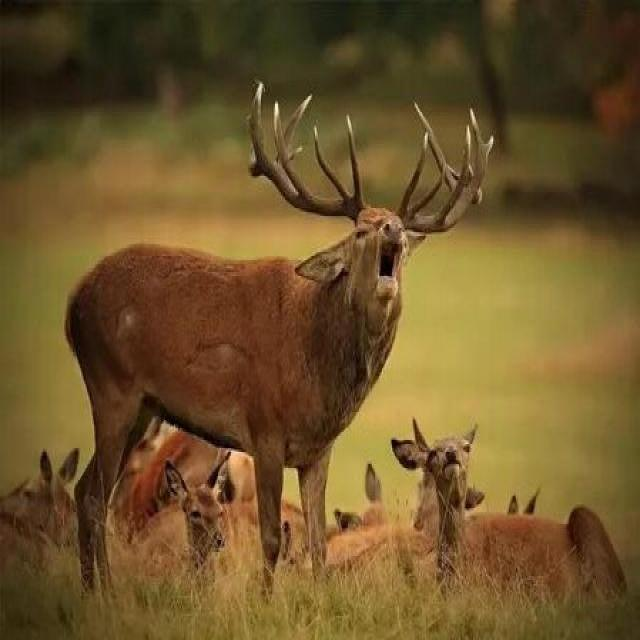deer: (71, 62, 492, 517)
